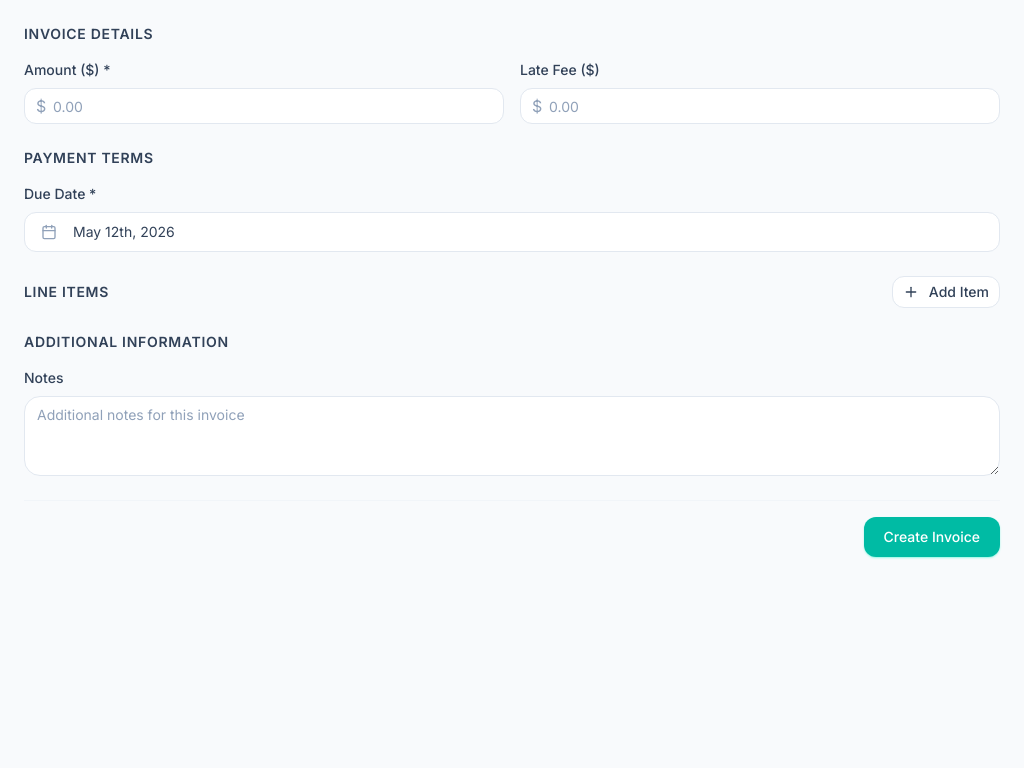
InvoiceForm › form validation shows error for missing amount
The width and height of the screenshot is (1024, 768).
Clear the amount field
Type "0" into the number field with test id "invoice-amount" at {"x": 264, "y": 106}, box [24,88,504,124]
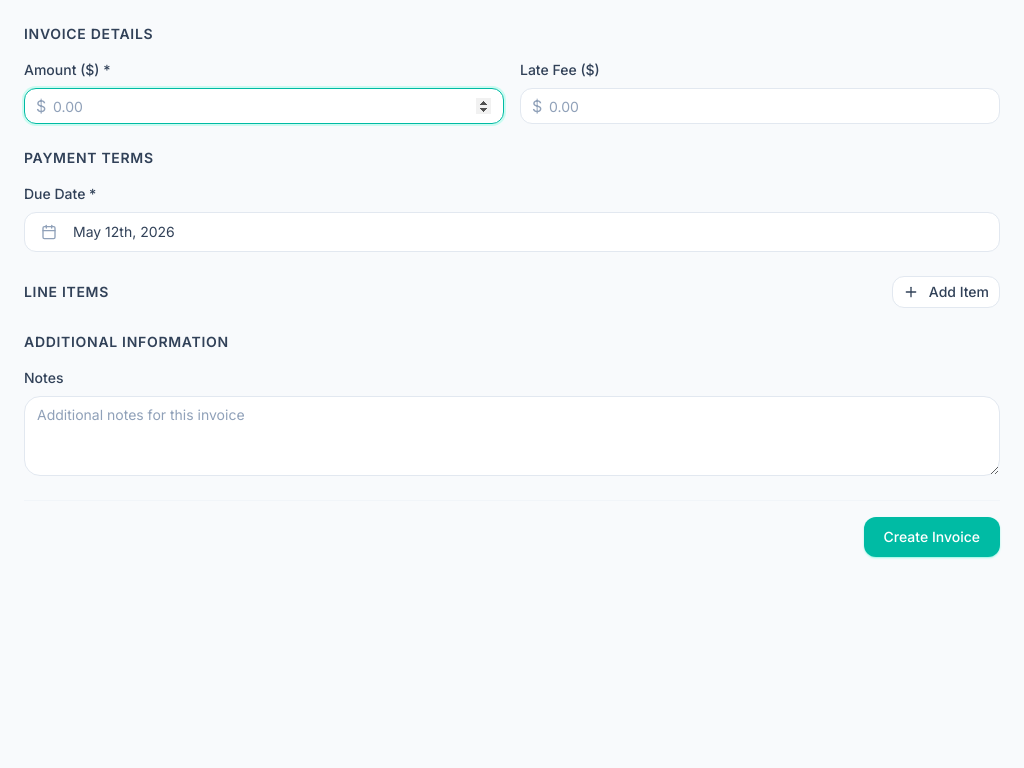
Click the button with test id "submit-invoice-btn" at {"x": 932, "y": 537}, box [864,517,1000,557]
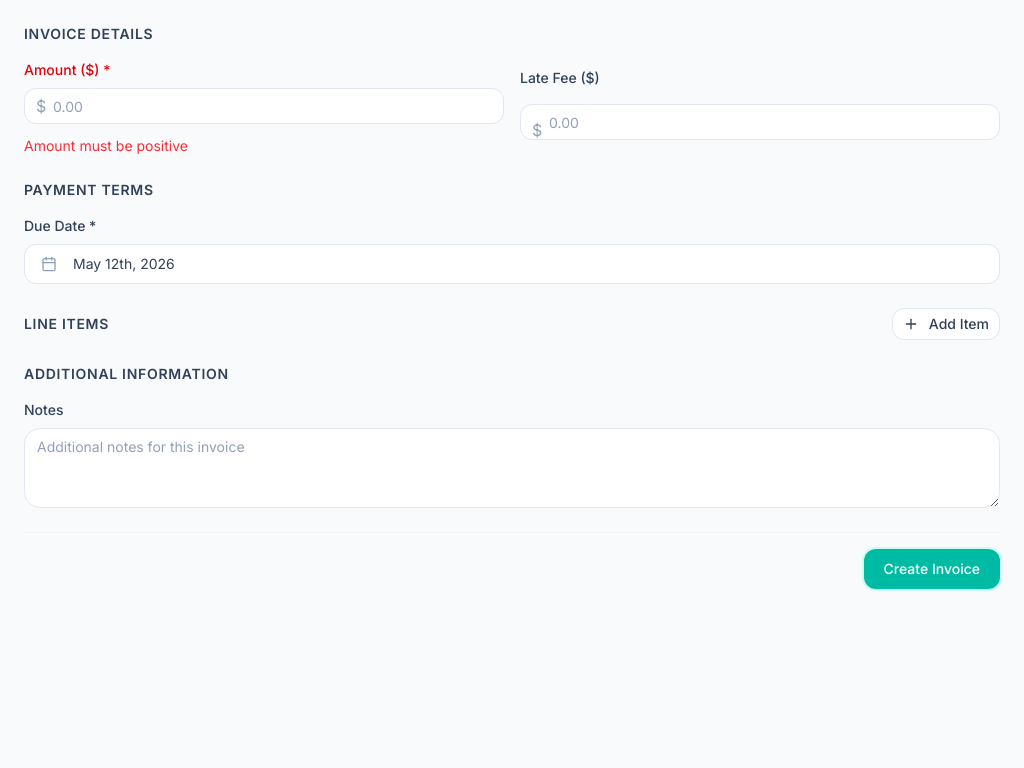
Result: the text "Amount must be positive" is shown at [24,137,188,154]
